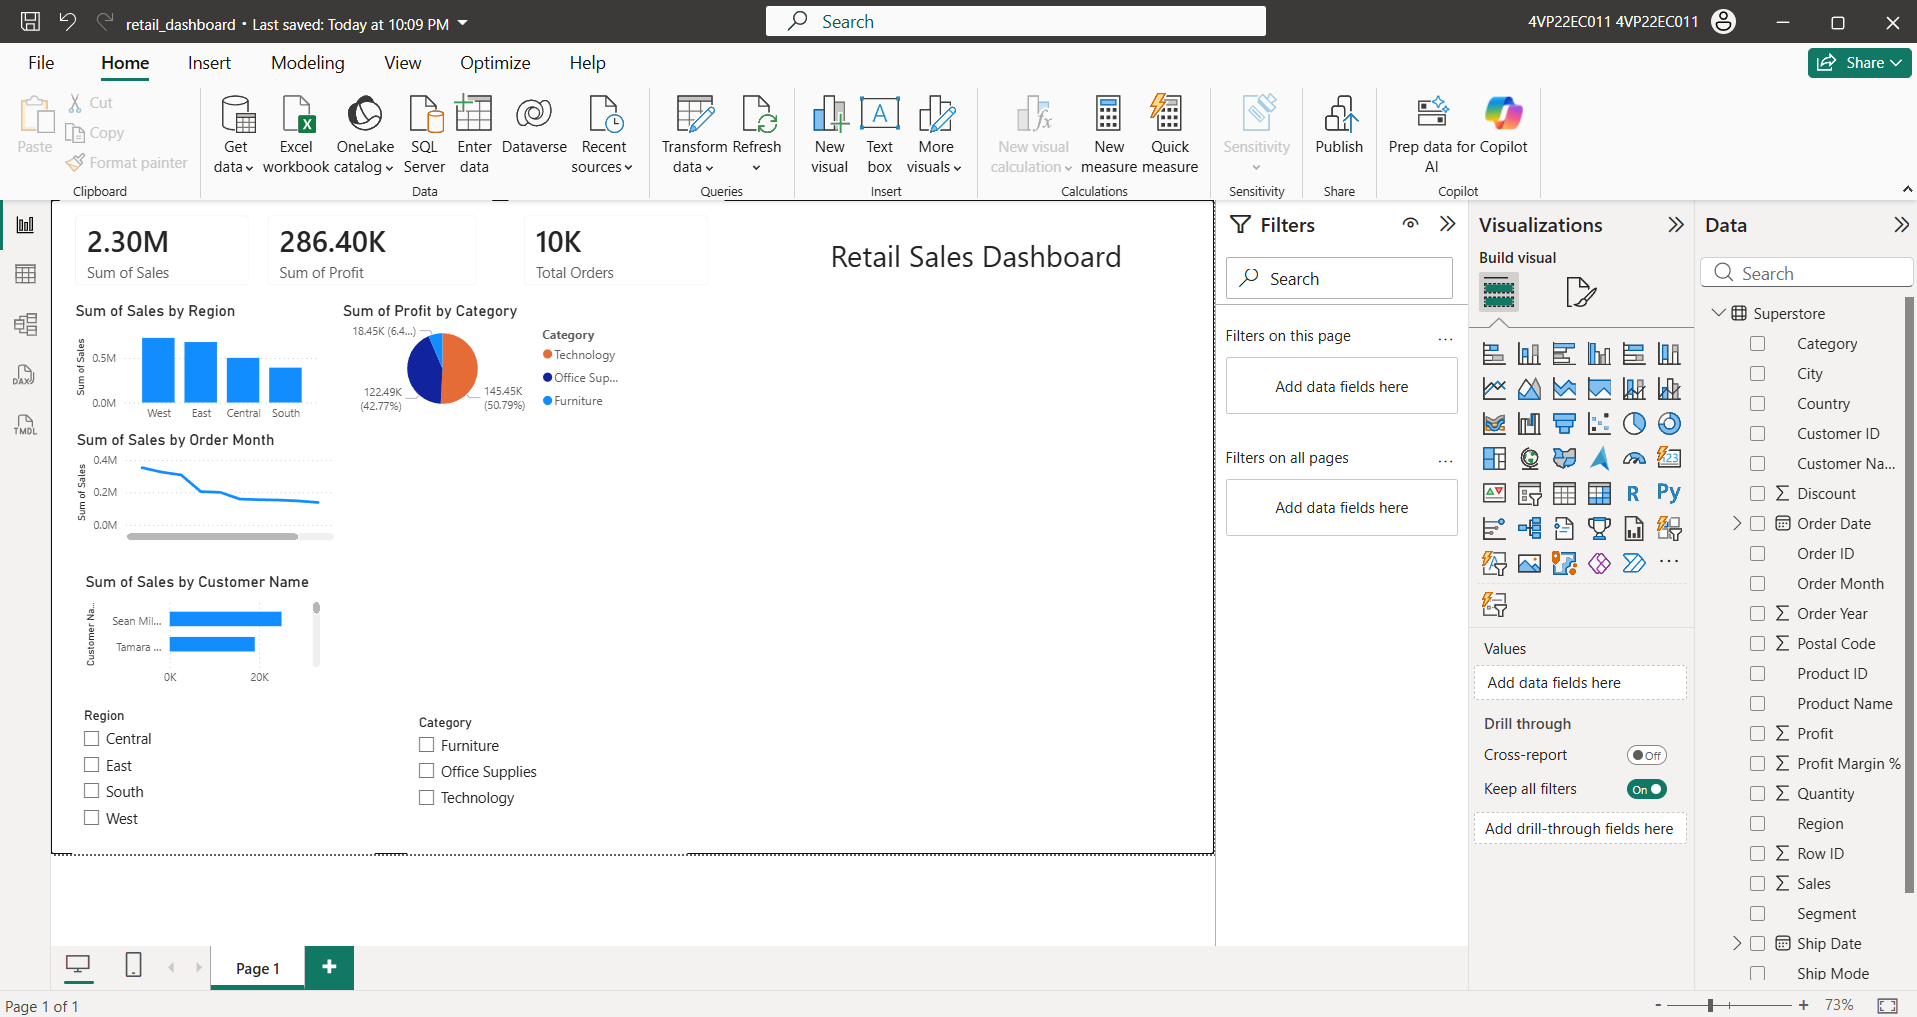

Layout of this report page (visuals, bound fields, positions):
{"tool":"powerbi","page":{"name":"Page 1","canvas":[1280,720],"ordinal":0},"visuals":[{"type":"cardVisual","fields":{"Data":["Sum(Superstore.Sales)"]},"box":[9.6,0,225.5,111.4],"z":0},{"type":"cardVisual","fields":{"Data":["Superstore.Total Orders"]},"box":[503.3,0,237.9,111.4],"z":1000},{"type":"cardVisual","fields":{"Data":["Sum(Superstore.Profit)"]},"box":[221.4,0,264,111.4],"z":2000},{"type":"clusteredColumnChart","fields":{"Category":["Superstore.Region"],"Y":["Sum(Superstore.Sales)"]},"box":[22,111.4,279.2,141.6],"z":3000},{"type":"pieChart","fields":{"Category":["Superstore.Category"],"Y":["Sum(Superstore.Profit)"]},"box":[316.3,111.4,323.2,129.3],"z":4000},{"type":"lineChart","fields":{"Category":["Superstore.Order Month"],"Y":["Sum(Superstore.Sales)"]},"box":[23.4,253,292.9,126.5],"z":5000},{"type":"clusteredBarChart","fields":{"Category":["Superstore.Customer Name"],"Y":["Sum(Superstore.Sales)"]},"box":[33,409.8,268.2,133.4],"z":6000},{"type":"slicer","fields":{"Values":["Superstore.Region"]},"box":[23.4,554.2,332.8,166.4],"z":7000},{"type":"slicer","fields":{"Values":["Superstore.Category"]},"box":[391.9,561.1,308,159.5],"z":8000},{"type":"textbox","box":[852.6,34.4,382.3,63.3],"z":8001}]}

Visuals, with their boxes on the page's 1280x720 design canvas (x1, y1, x2, y2). These are canvas units, not pixel positions in the 1917x1017 screenshot, which may show the page scaled, cropped or inside an application window:
cardVisual - Sum(Superstore.Sales): crop(10, 0, 235, 111)
cardVisual - Superstore.Total Orders: crop(503, 0, 741, 111)
cardVisual - Sum(Superstore.Profit): crop(221, 0, 485, 111)
clusteredColumnChart - Superstore.Region x Sum(Superstore.Sales): crop(22, 111, 301, 253)
pieChart - Superstore.Category x Sum(Superstore.Profit): crop(316, 111, 640, 241)
lineChart - Superstore.Order Month x Sum(Superstore.Sales): crop(23, 253, 316, 380)
clusteredBarChart - Superstore.Customer Name x Sum(Superstore.Sales): crop(33, 410, 301, 543)
slicer - Superstore.Region: crop(23, 554, 356, 721)
slicer - Superstore.Category: crop(392, 561, 700, 721)
textbox: crop(853, 34, 1235, 98)
